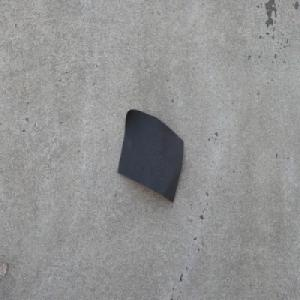PaintChip: (117, 108, 184, 203)
